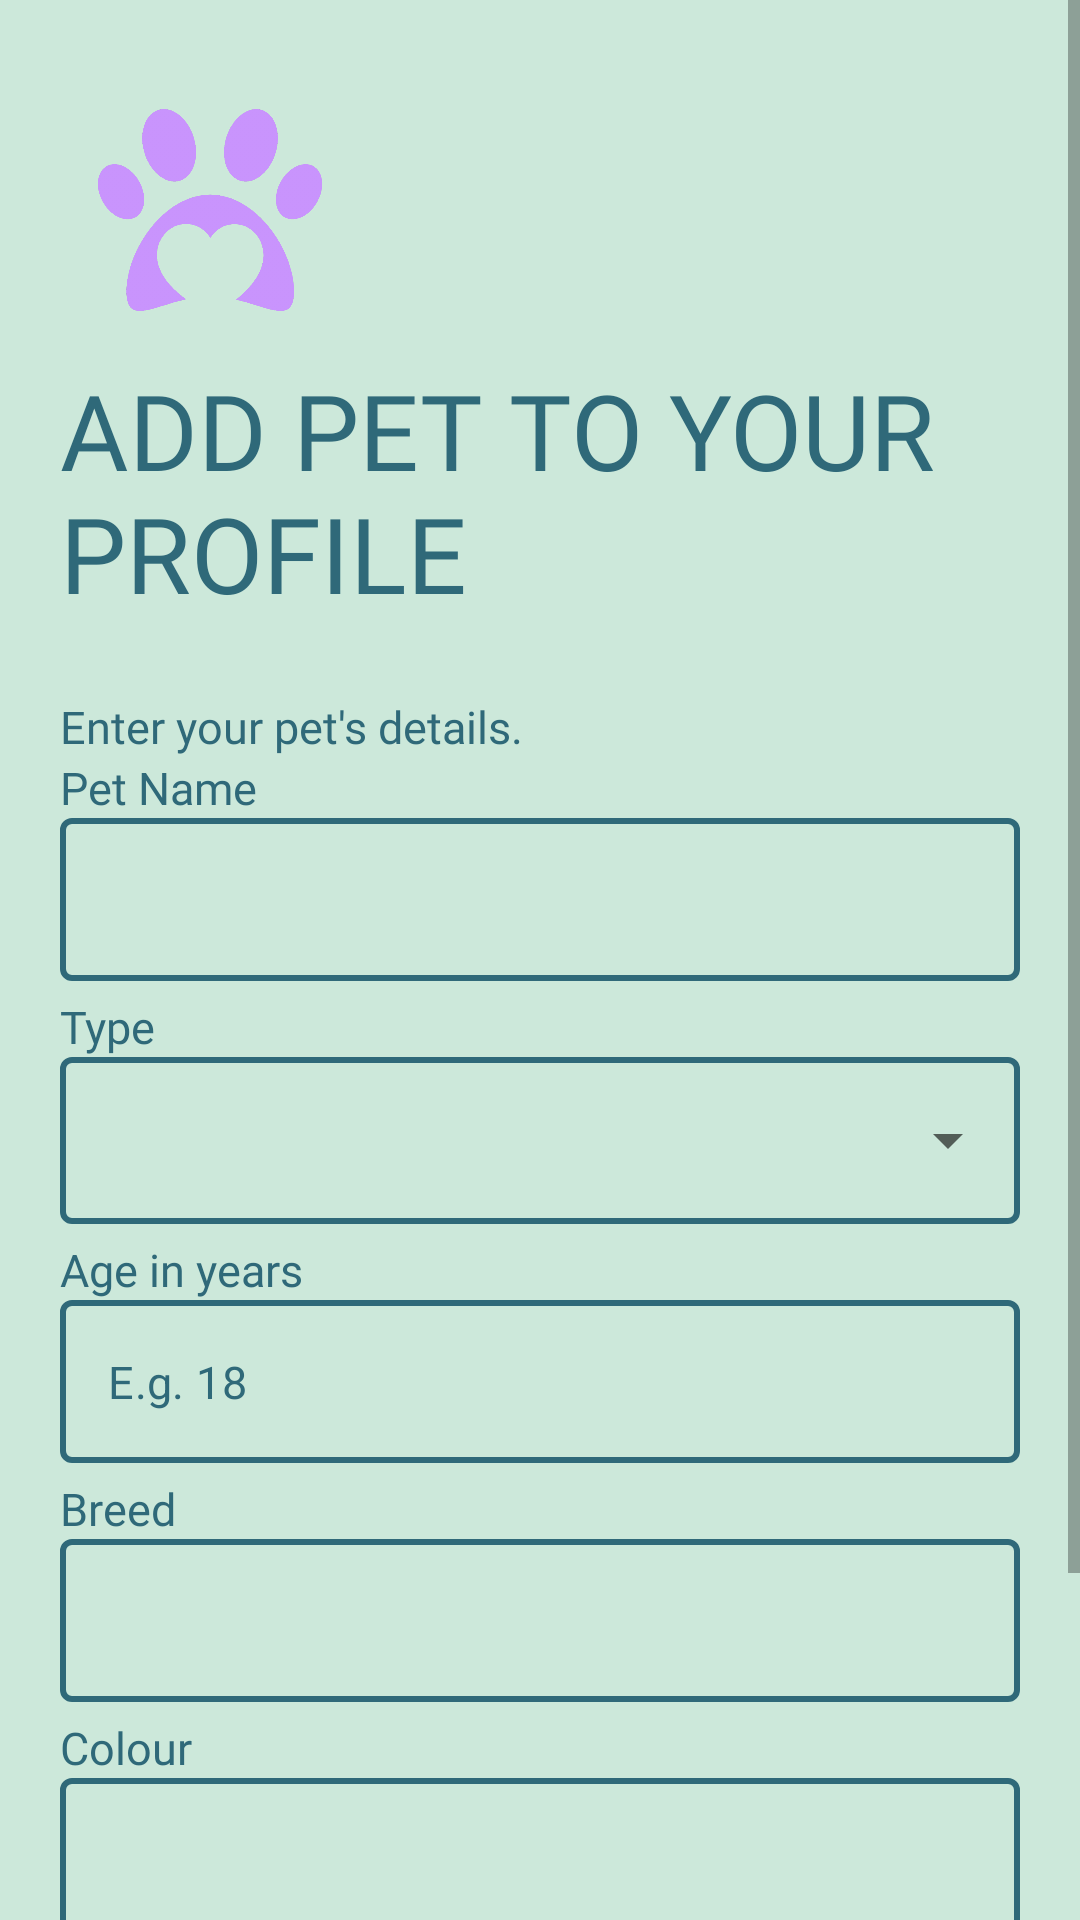

Named icons in this screenshot (1080 × 1920) and their centers, (x,y):
paw: (210,210)
